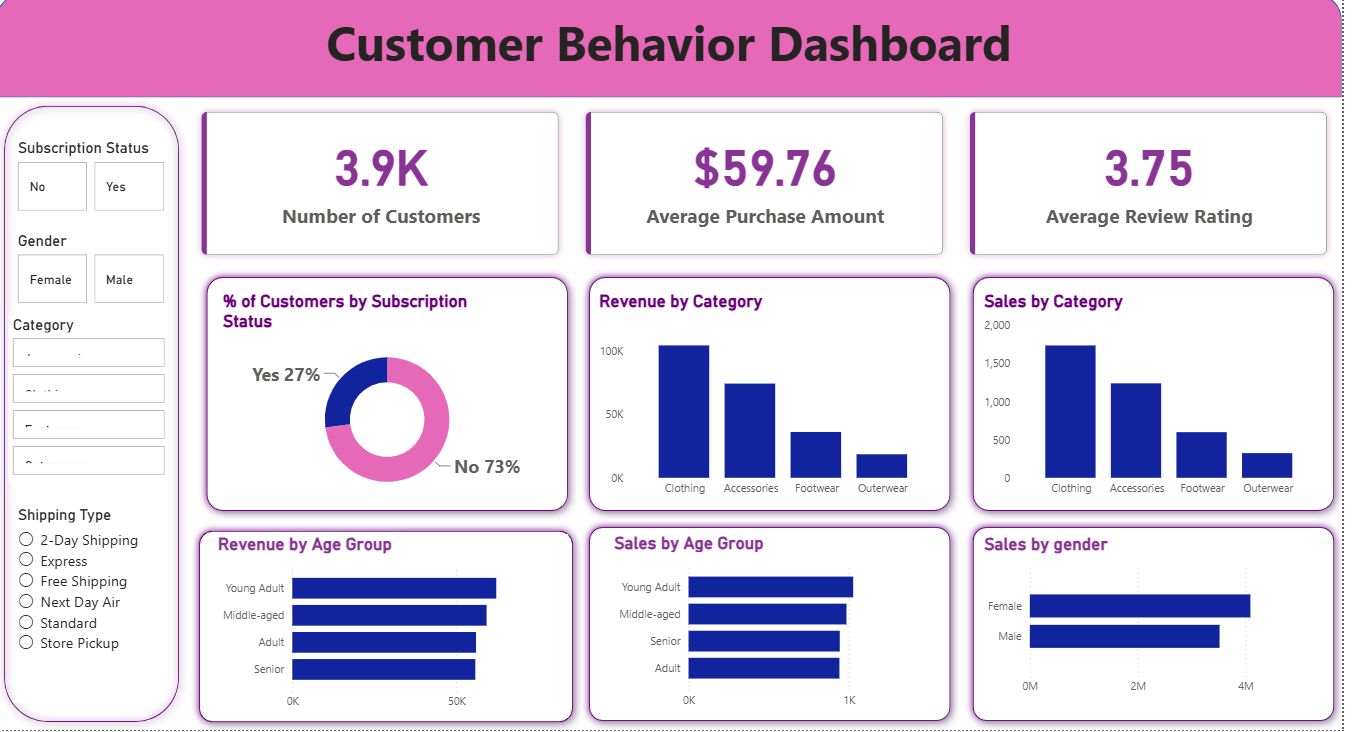

The page's visual inventory and layout, read from the dashboard file:
{"tool":"powerbi","page":{"name":"Page 1","canvas":[1500,820],"ordinal":0},"visuals":[{"type":"cardVisual","fields":{"Data":["public customer.Number of Customers","public customer.Average Purchase Amount","public customer.Average Review Rating"]},"box":[212.9,115.3,1286.5,191.6],"z":0},{"type":"shape","box":[0,0,1499.4,115.3],"z":1000},{"type":"textbox","box":[0,12.4,1499.4,102.9],"z":2000},{"type":"shape","box":[217.3,589.1,434.5,231.2],"z":2500,"group":"g1"},{"type":"shape","box":[225.4,307,420.5,278.6],"z":3000},{"type":"donutChart","title":"% of Customers by Subscription Status","fields":{"Category":["public customer.subscription_status"],"Y":["CountNonNull(public customer.customer_id)"]},"box":[248.4,331.8,376.2,237.8],"z":4000},{"type":"shape","box":[1079.3,306.4,420.5,278.6],"z":5000},{"type":"shape","box":[652.1,307,420.5,278.6],"z":6000},{"type":"clusteredColumnChart","title":"Revenue by Category","fields":{"Y":["Sum(public customer.purchase_amount)"],"Category":["public customer.category"]},"box":[667.2,331.8,385.1,237.8],"z":7000},{"type":"clusteredColumnChart","title":"Sales by Category","fields":{"Y":["CountNonNull(public customer.customer_id)"],"Category":["public customer.category"]},"box":[1096.6,331.8,385.1,237.8],"z":8000},{"type":"shape","box":[0,115.3,212.9,704.5],"z":9000},{"type":"advancedSlicerVisual","fields":{"Values":["public customer.subscription_status"]},"box":[19.5,161.5,173.9,85.2],"z":10000},{"type":"advancedSlicerVisual","fields":{"Values":["public customer.gender"]},"box":[19.5,264.4,173.9,85.2],"z":11000},{"type":"advancedSlicerVisual","fields":{"Values":["public customer.category"]},"box":[14.2,358.4,179.2,186.3],"z":12000},{"type":"listSlicer","fields":{"Values":["public customer.shipping_type"]},"box":[19.5,569.6,168.6,220],"z":13000},{"type":"shape","box":[651.8,584.9,420.6,234],"z":14000},{"type":"clusteredBarChart","title":"Sales by Age Group","fields":{"Y":["CountNonNull(public customer.customer_id)"],"Category":["public customer.age_group"]},"box":[683.8,600.2,367.7,204.7],"z":15000},{"type":"group","id":"g1","title":"Group 1","box":[217.3,589.1,434.5,231.2],"z":16000},{"type":"shape","box":[1079.3,584.9,420.6,234],"z":17000},{"type":"clusteredBarChart","title":"Revenue by Age Group","fields":{"Y":["Sum(public customer.purchase_amount)"],"Category":["public customer.age_group"]},"box":[242,601.5,395.5,204.7],"z":17500,"group":"g1"},{"type":"clusteredBarChart","title":"Sales by gender","fields":{"Category":["public customer.gender"],"Y":["Sum(public customer.customer_id)"]},"box":[1096,601.6,370.5,188],"z":18000}]}

Visuals, with their boxes in screenshot pixels (x1, y1, x2, y2), scaled from the page's 1500x820 canvas onto the 1352x732 screenshot:
cardVisual - public customer.Number of Customers x public customer.Average Purchase Amount: BBox(192, 103, 1351, 274)
shape: BBox(0, 0, 1351, 103)
textbox: BBox(0, 11, 1351, 103)
shape: BBox(196, 526, 587, 731)
shape: BBox(203, 274, 582, 523)
"% of Customers by Subscription Status" donutChart: BBox(224, 296, 563, 508)
shape: BBox(973, 274, 1351, 522)
shape: BBox(588, 274, 967, 523)
"Revenue by Category" clusteredColumnChart: BBox(601, 296, 948, 508)
"Sales by Category" clusteredColumnChart: BBox(988, 296, 1336, 508)
shape: BBox(0, 103, 192, 731)
advancedSlicerVisual - public customer.subscription_status: BBox(18, 144, 174, 220)
advancedSlicerVisual - public customer.gender: BBox(18, 236, 174, 312)
advancedSlicerVisual - public customer.category: BBox(13, 320, 174, 486)
listSlicer - public customer.shipping_type: BBox(18, 508, 170, 705)
shape: BBox(587, 522, 967, 731)
"Sales by Age Group" clusteredBarChart: BBox(616, 536, 948, 719)
"Group 1" group: BBox(196, 526, 587, 731)
shape: BBox(973, 522, 1351, 731)
"Revenue by Age Group" clusteredBarChart: BBox(218, 537, 575, 720)
"Sales by gender" clusteredBarChart: BBox(988, 537, 1322, 705)
